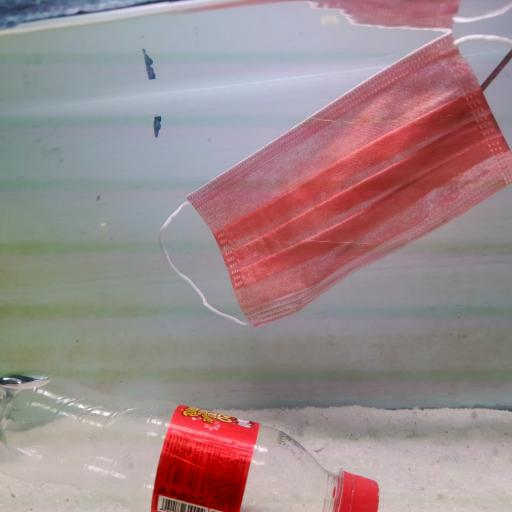bottle_cap: (337, 463, 383, 512)
mask: (163, 26, 512, 330)
plastic_bottle: (0, 367, 386, 512)
